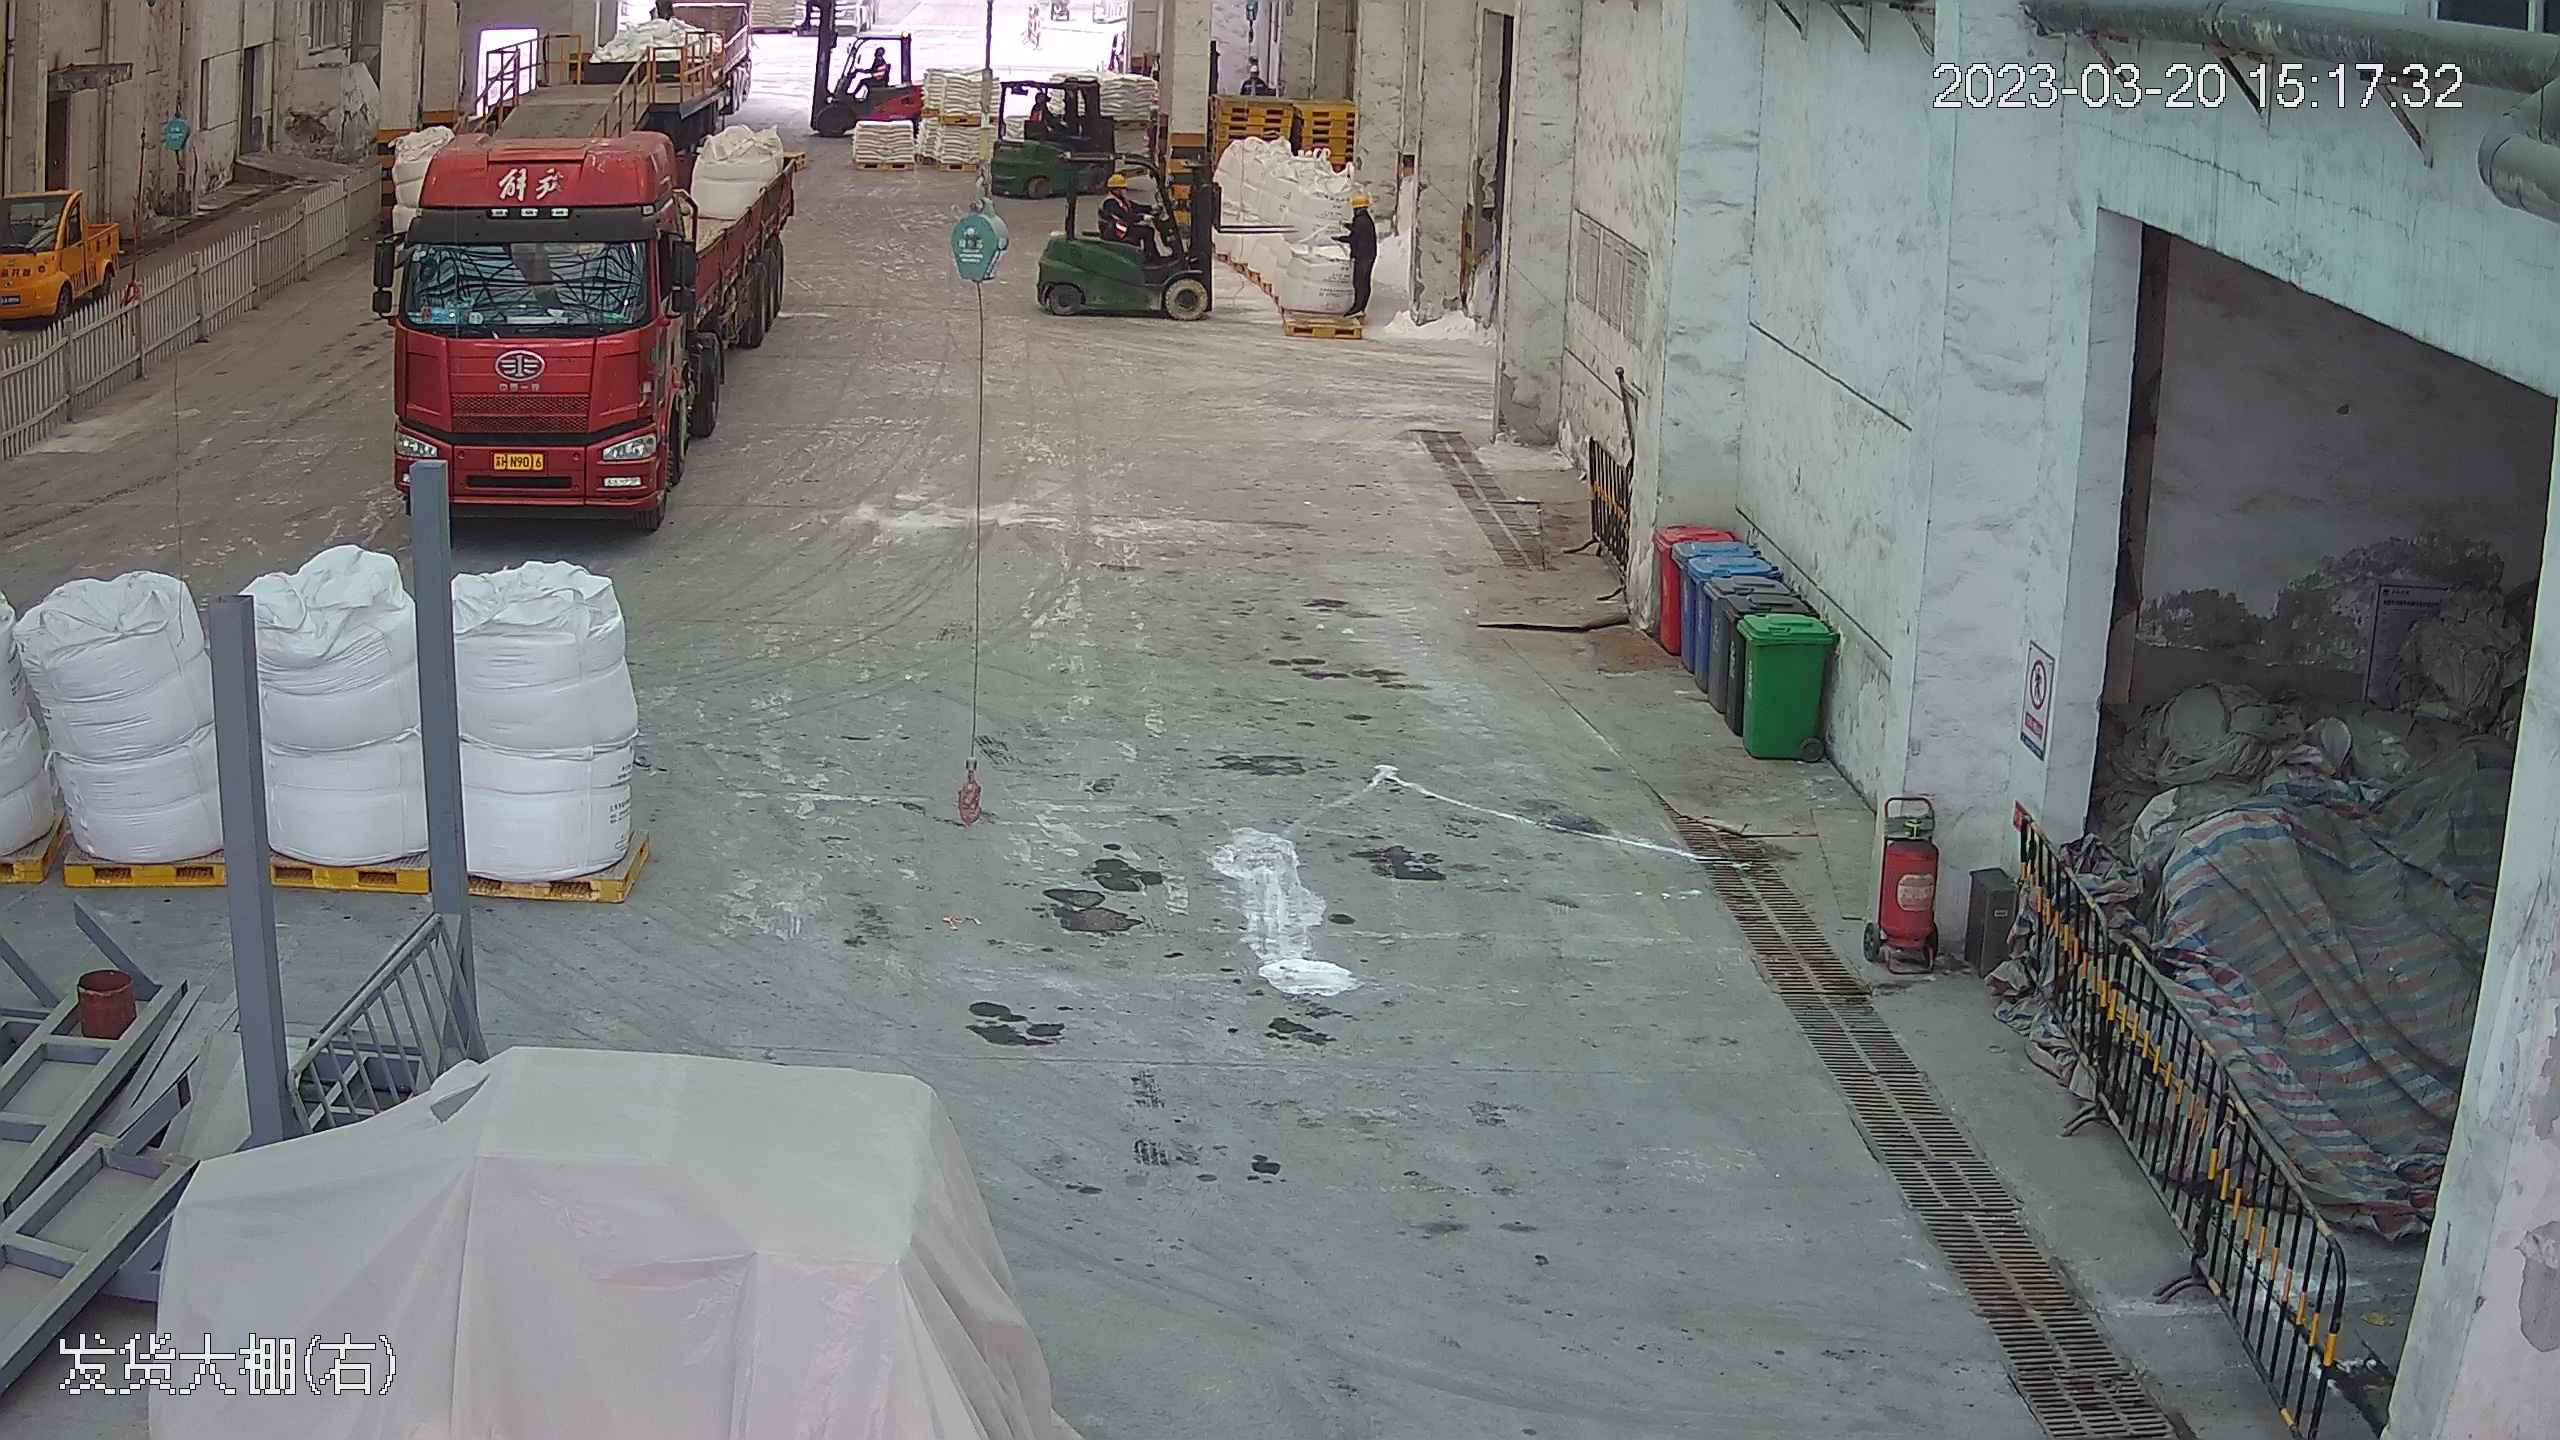head: (1340, 189, 1380, 236), (1102, 171, 1140, 216), (1241, 63, 1264, 92)
helmet: (1106, 170, 1128, 192), (1348, 188, 1369, 208), (1248, 63, 1261, 73)
people: (1333, 184, 1379, 322), (852, 45, 891, 93)
truck: (374, 55, 799, 520)
